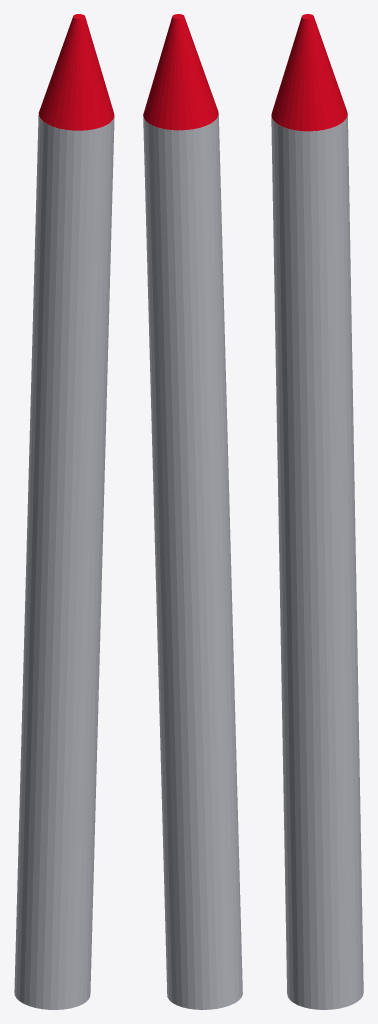
The model's file is mypen.fbx.
3 views of the same model, side by side, from view 1: azimuth 30°, elevation 25°; view 2: azimuth 210°, elevation 25°; view 3: azimuth 270°, elevation 25° (orthographic).
Parts seen in each view (by area): view 1: Cylinder, Cone; view 2: Cylinder, Cone; view 3: Cylinder, Cone.
Boxes of the visible parts, x1,y1,x2,y2 form: Cylinder: (14,112,114,1009); Cone: (38,14,114,130); Cylinder: (143,111,242,1009); Cone: (143,14,218,130); Cylinder: (271,111,363,1009); Cone: (271,14,347,131).
Bounding box in the file's own units: 7.25 × 82.63 × 7.02.
